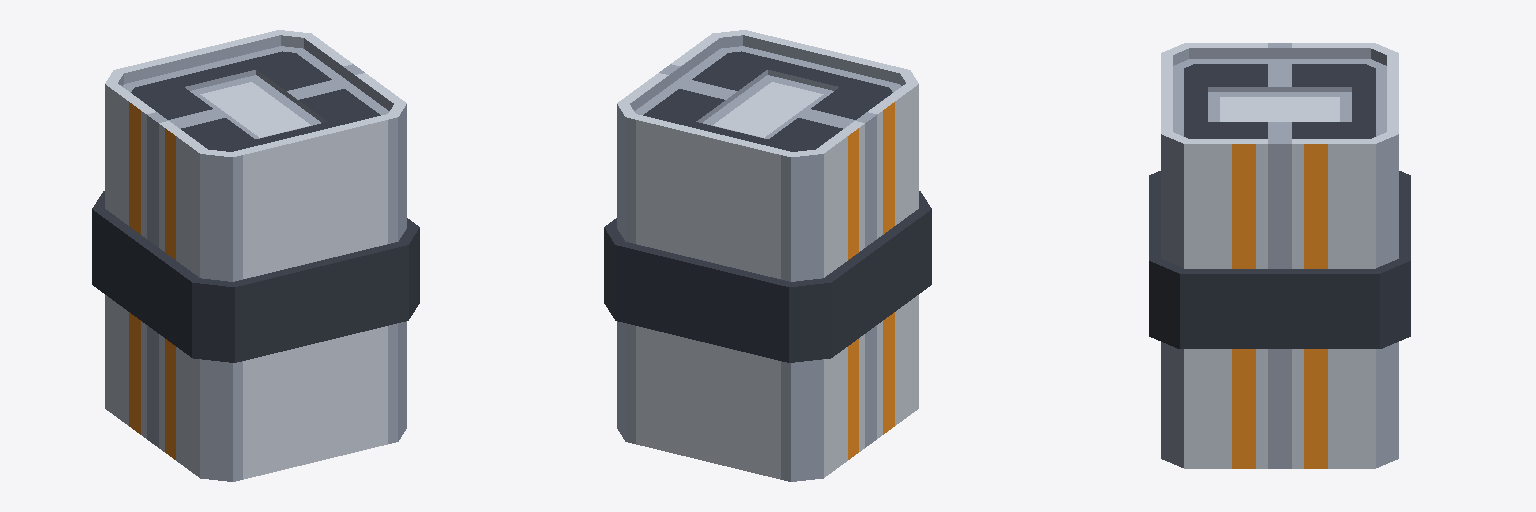
The model's file is buildings_3.obj.
3 views of the same model, side by side, from view 1: azimuth 30°, elevation 25°; view 2: azimuth 150°, elevation 25°; view 3: azimuth 270°, elevation 25° (orthographic).
Parts seen in each view (by area): view 1: hangar_largeB.001; view 2: hangar_largeB.001; view 3: hangar_largeB.001.
Part boxes in pixels (x1,y1,x2,y2): hangar_largeB.001: (92, 30, 419, 481); hangar_largeB.001: (604, 30, 931, 481); hangar_largeB.001: (1149, 43, 1410, 468).
Bounding box in the file's own units: 2.2 × 3 × 2.2.